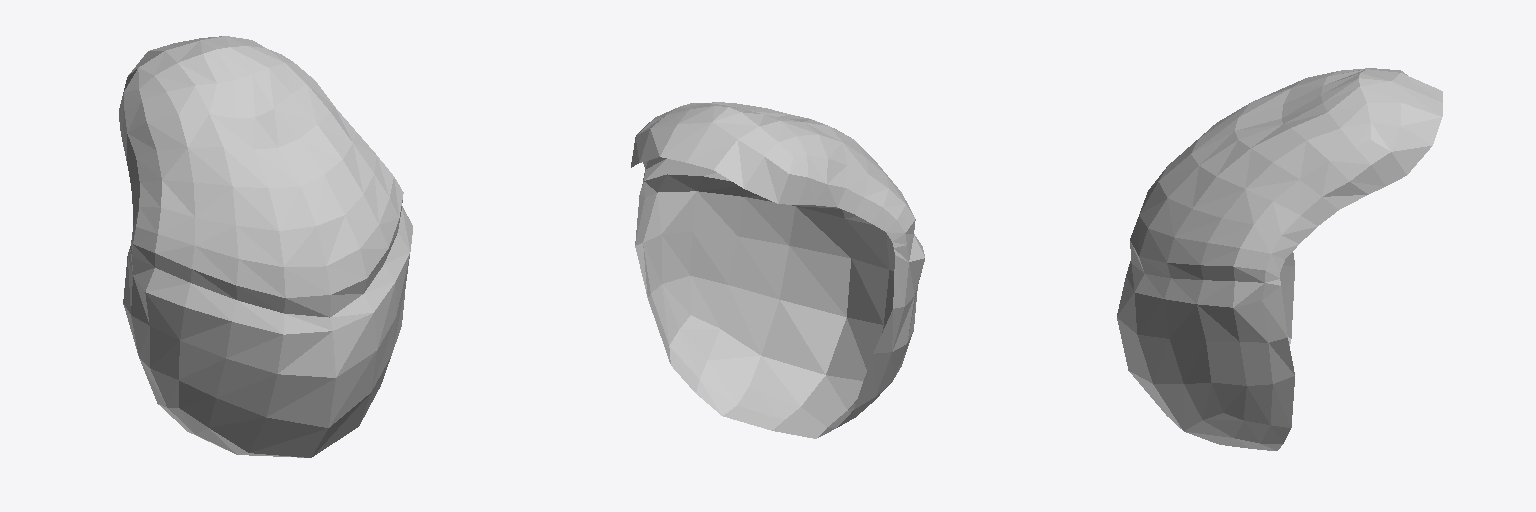
The model's file is Scarf.obj.
The picture shows the model from 3 angles: view 1: azimuth 30°, elevation 25°; view 2: azimuth 150°, elevation 25°; view 3: azimuth 270°, elevation 25°; orthographic projection.
Bounding box in the file's own units: 21.73 × 27.53 × 22.93.